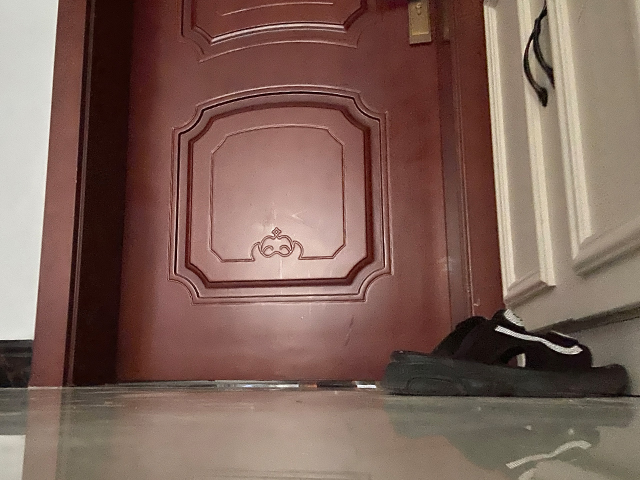cabinet: (483, 1, 640, 401)
slippers: (378, 308, 631, 400)
